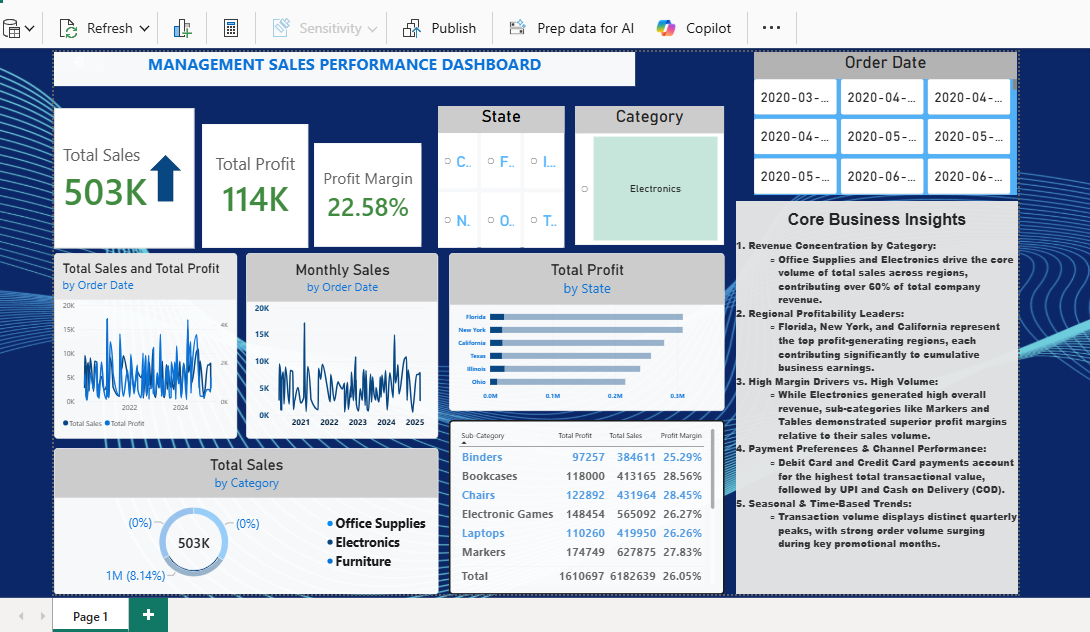

The page's visual inventory and layout, read from the dashboard file:
{"tool":"powerbi","page":{"name":"Page 1","canvas":[1920,1080],"ordinal":0},"visuals":[{"type":"cardVisual","fields":{"Data":["Sheet1.Total Sales"]},"box":[0,110.9,280,280],"z":0},{"type":"cardVisual","fields":{"Data":["Sheet1.Total Profit"]},"box":[294.8,143.6,211.7,246.9],"z":1000},{"type":"cardVisual","fields":{"Data":["Sheet1.Profit Margin"]},"box":[519.1,181.4,214.2,206.6],"z":2000},{"type":"advancedSlicerVisual","fields":{"Values":["Sheet1.State"]},"box":[766,108.3,252,282.2],"z":3000},{"type":"advancedSlicerVisual","fields":{"Values":["Sheet1.Category"]},"box":[1038.1,108.3,297.3,277.2],"z":4000},{"type":"lineChart","fields":{"Category":["Sheet1.Order Date"],"Y":["Sheet1.Total Sales"],"Y2":["Sheet1.Total Profit"]},"box":[0,400.6,365.4,370.4],"z":5000},{"type":"clusteredBarChart","fields":{"Category":["Sheet1.State"],"Y":["Sheet1.Total Profit"]},"box":[786.1,400.6,549.3,315],"z":6000},{"type":"donutChart","fields":{"Category":["Sheet1.Category"],"Y":["Sheet1.Total Sales"]},"box":[0,788.7,766,292.3],"z":7000},{"type":"actionButton","box":[0,0,100,40],"z":8000},{"type":"tableEx","fields":{"Values":["Sheet1.Sub-Category","Sheet1.Total Profit","Sheet1.Total Sales","Sheet1.Profit Margin"]},"box":[786.1,733.2,549.3,347.7],"z":9000},{"type":"advancedSlicerVisual","fields":{"Values":["Sheet1.Order Date"]},"box":[1395.6,0,524.4,284.9],"z":10000},{"type":"shape","box":[192,204.4,61.9,92.9],"z":11000},{"type":"textbox","box":[1358.1,297.3,561.9,783.6],"z":12000},{"type":"textbox","box":[0,0,1158.2,68.1],"z":13000},{"type":"lineChart","fields":{"Category":["Sheet1.Order Date"],"Y":["Sheet1.Monthly Sales"]},"box":[383,400.6,383,370.4],"z":13001}]}

Visuals, with their boxes on the page's 1920x1080 design canvas (x1, y1, x2, y2). These are canvas units, not pixel positions in the 1090x632 screenshot, which may show the page scaled, cropped or inside an application window:
cardVisual - Sheet1.Total Sales: x1=0, y1=111, x2=280, y2=391
cardVisual - Sheet1.Total Profit: x1=295, y1=144, x2=506, y2=390
cardVisual - Sheet1.Profit Margin: x1=519, y1=181, x2=733, y2=388
advancedSlicerVisual - Sheet1.State: x1=766, y1=108, x2=1018, y2=390
advancedSlicerVisual - Sheet1.Category: x1=1038, y1=108, x2=1335, y2=386
lineChart - Sheet1.Order Date x Sheet1.Total Sales: x1=0, y1=401, x2=365, y2=771
clusteredBarChart - Sheet1.State x Sheet1.Total Profit: x1=786, y1=401, x2=1335, y2=716
donutChart - Sheet1.Category x Sheet1.Total Sales: x1=0, y1=789, x2=766, y2=1081
actionButton: x1=0, y1=0, x2=100, y2=40
tableEx - Sheet1.Sub-Category x Sheet1.Total Profit: x1=786, y1=733, x2=1335, y2=1081
advancedSlicerVisual - Sheet1.Order Date: x1=1396, y1=0, x2=1920, y2=285
shape: x1=192, y1=204, x2=254, y2=297
textbox: x1=1358, y1=297, x2=1920, y2=1081
textbox: x1=0, y1=0, x2=1158, y2=68
lineChart - Sheet1.Order Date x Sheet1.Monthly Sales: x1=383, y1=401, x2=766, y2=771
